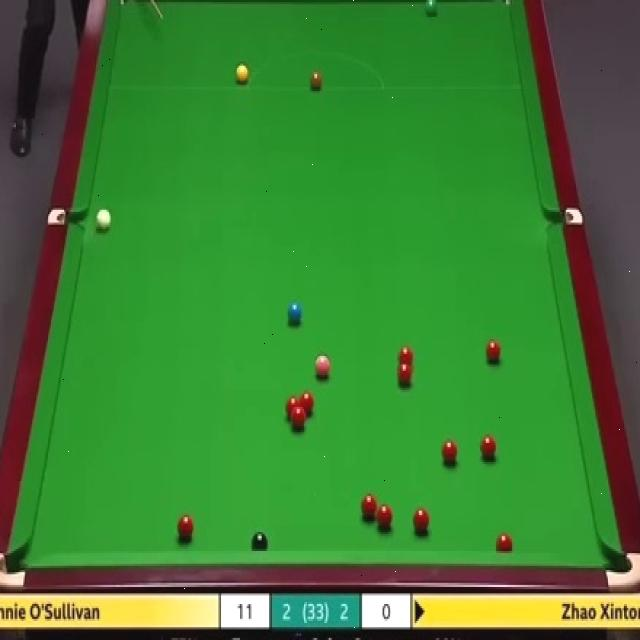black-ball: (251, 531, 270, 553)
blue-ball: (286, 300, 304, 324)
brown-ball: (310, 67, 322, 89)
green-ball: (423, 0, 438, 17)
pink-ball: (314, 355, 332, 381)
red-ball: (412, 508, 431, 537), (441, 439, 460, 467), (176, 513, 194, 541), (377, 501, 393, 532), (360, 494, 378, 521), (398, 344, 416, 371), (481, 434, 498, 460), (285, 396, 300, 422), (485, 339, 500, 365), (399, 363, 413, 389), (495, 532, 514, 550), (300, 392, 314, 416), (292, 410, 307, 430)
white-ball: (95, 206, 112, 231)
yellow-ball: (235, 66, 248, 83)
